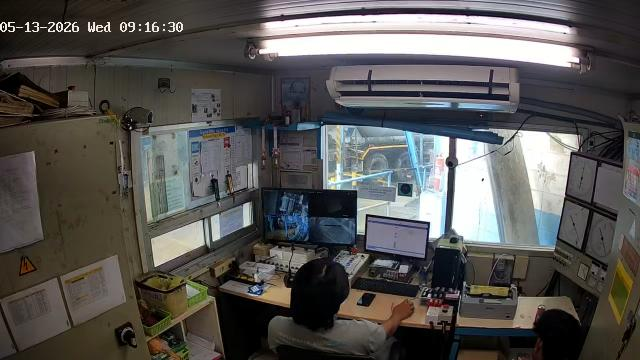Head: (289, 261, 350, 326), (536, 309, 581, 360)
People: (268, 259, 414, 359), (532, 309, 580, 359)
